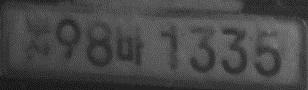1: (156, 22, 187, 74)
3: (190, 23, 217, 74), (221, 25, 248, 76)
5: (254, 27, 282, 77)
8: (84, 19, 113, 67)
9: (54, 16, 81, 66)
바: (116, 18, 146, 65)
부산_V: (24, 12, 51, 69)
